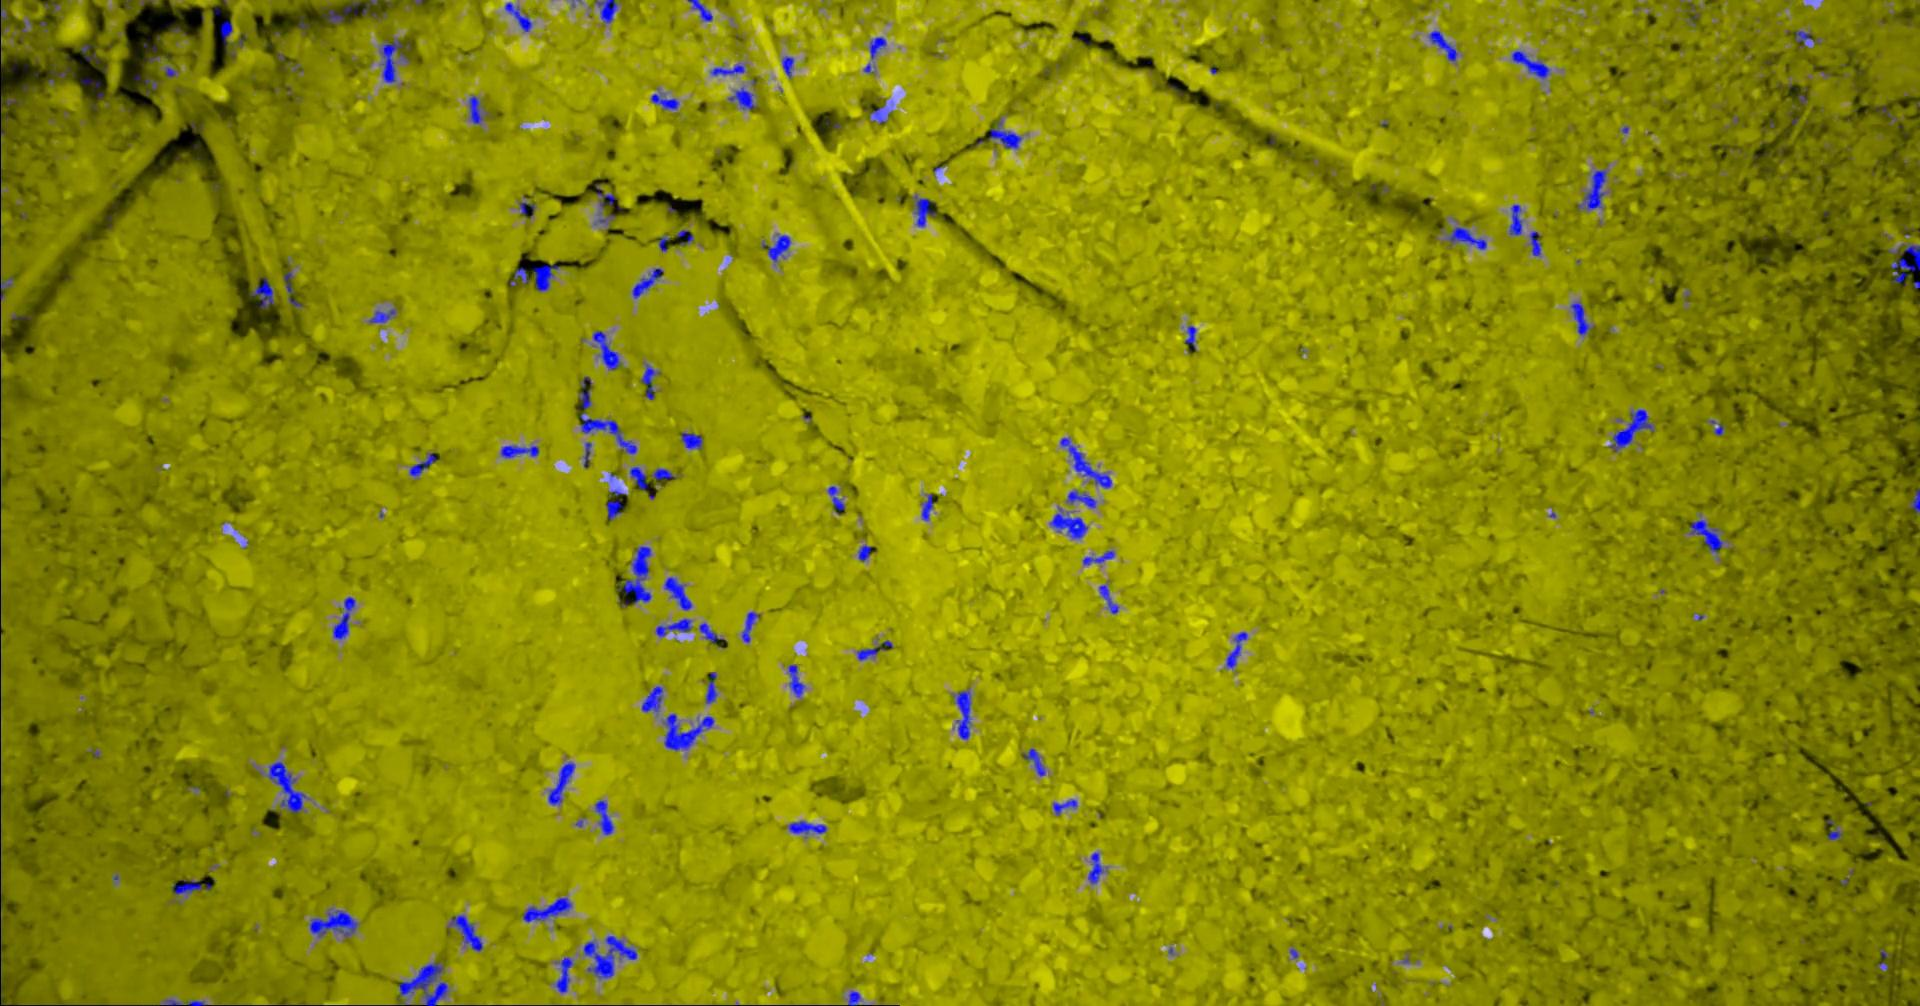ant: (577, 376, 636, 453), (1059, 437, 1111, 488), (582, 935, 637, 979), (397, 962, 448, 1005), (617, 546, 651, 603), (267, 761, 305, 812), (1609, 409, 1653, 451), (663, 713, 712, 749), (380, 38, 410, 83), (1887, 243, 1919, 285), (309, 909, 357, 936), (1049, 506, 1087, 539), (1689, 514, 1722, 553), (522, 897, 571, 922), (1576, 169, 1606, 210), (450, 915, 483, 951), (547, 761, 574, 805), (592, 330, 620, 370), (1511, 50, 1549, 77), (331, 596, 356, 639), (631, 268, 663, 298), (988, 119, 1021, 149), (663, 575, 691, 610), (1448, 226, 1486, 249), (1429, 30, 1457, 61), (323, 0, 359, 23), (0, 97, 22, 135), (954, 690, 970, 739), (761, 232, 790, 260), (282, 271, 303, 307), (1225, 631, 1247, 668), (249, 277, 274, 307), (504, 3, 531, 30), (1570, 302, 1592, 334), (856, 640, 891, 661), (913, 196, 935, 227), (532, 264, 559, 290), (640, 363, 659, 399), (728, 86, 756, 111), (594, 800, 613, 835), (409, 452, 436, 476), (1022, 748, 1045, 776), (655, 619, 691, 636), (554, 956, 571, 992), (604, 489, 625, 520), (698, 622, 726, 644), (171, 879, 211, 894), (1098, 584, 1117, 614), (687, 0, 712, 22), (1065, 489, 1096, 507), (742, 611, 759, 641), (641, 685, 662, 711), (594, 0, 617, 23), (827, 485, 844, 514), (789, 821, 825, 835), (1087, 852, 1103, 883), (650, 91, 678, 109), (596, 183, 615, 208), (500, 445, 538, 457), (789, 664, 804, 696), (1082, 550, 1114, 564), (629, 466, 648, 489), (1509, 205, 1523, 235), (469, 95, 483, 124), (869, 36, 886, 58), (870, 100, 888, 123), (368, 307, 395, 323), (710, 64, 744, 75), (509, 267, 530, 286), (1051, 799, 1076, 814), (705, 671, 716, 702), (681, 432, 702, 448), (218, 19, 232, 44), (1529, 230, 1542, 257), (0, 917, 4, 1005), (1796, 30, 1815, 47), (1183, 325, 1196, 349), (921, 493, 932, 520), (676, 229, 693, 245), (651, 467, 676, 479), (0, 277, 13, 298), (0, 0, 8, 36), (79, 44, 97, 60), (1909, 488, 1919, 513), (164, 998, 204, 1005), (781, 56, 792, 77), (519, 202, 535, 217), (858, 544, 871, 561), (583, 441, 590, 467), (1827, 826, 1841, 840), (847, 989, 860, 1005), (658, 236, 669, 251)
